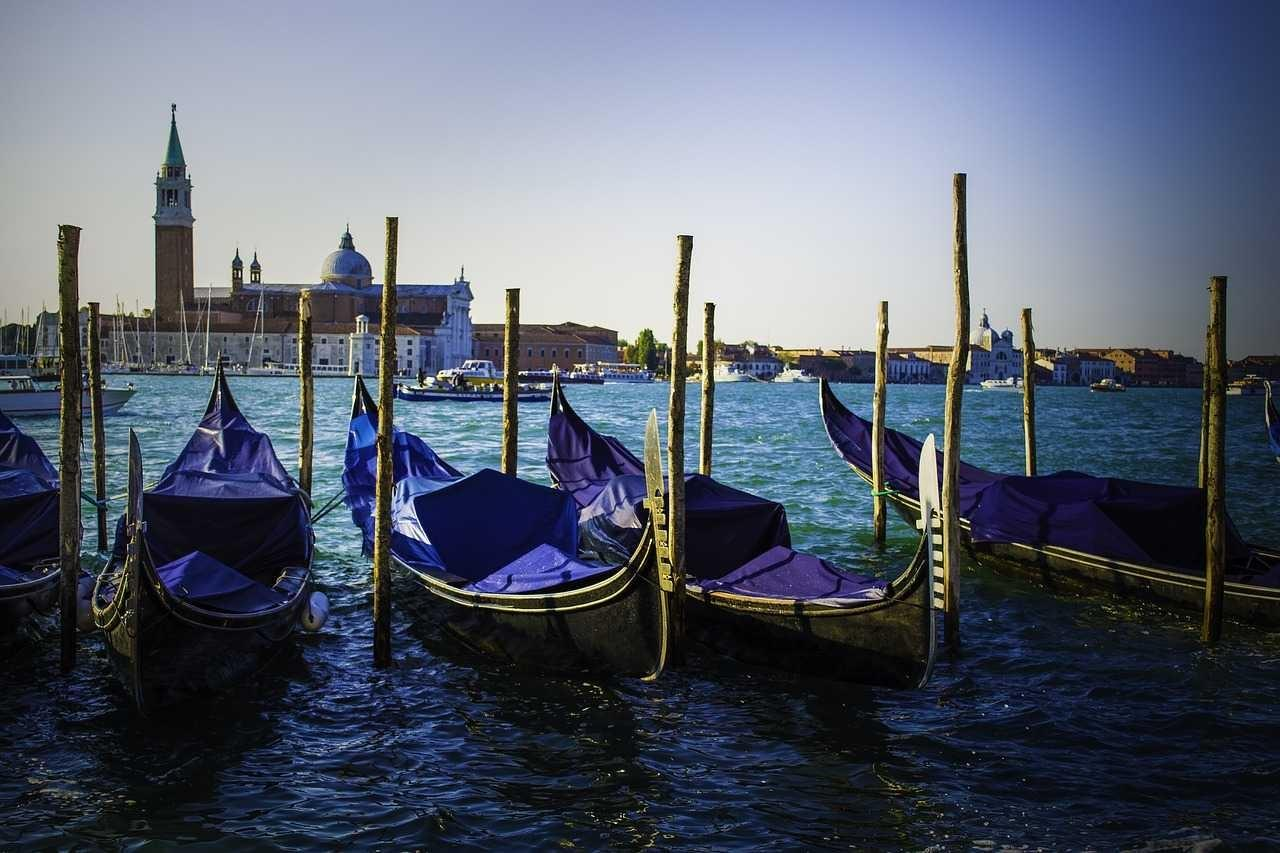kayak: (822, 320, 1278, 624), (655, 281, 961, 691), (341, 370, 675, 681), (89, 334, 327, 724), (0, 409, 64, 631), (0, 378, 137, 417), (413, 359, 506, 396), (0, 372, 61, 413), (1263, 379, 1280, 462), (564, 366, 606, 383), (980, 377, 1023, 391), (1089, 376, 1126, 392)
